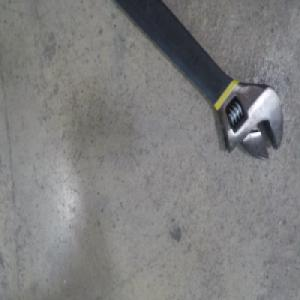AdjustableWrench: (110, 0, 280, 163)
